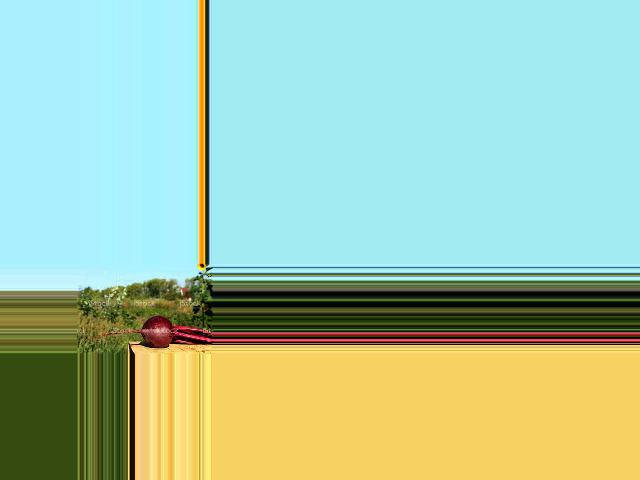beet: (81, 316, 213, 348)
